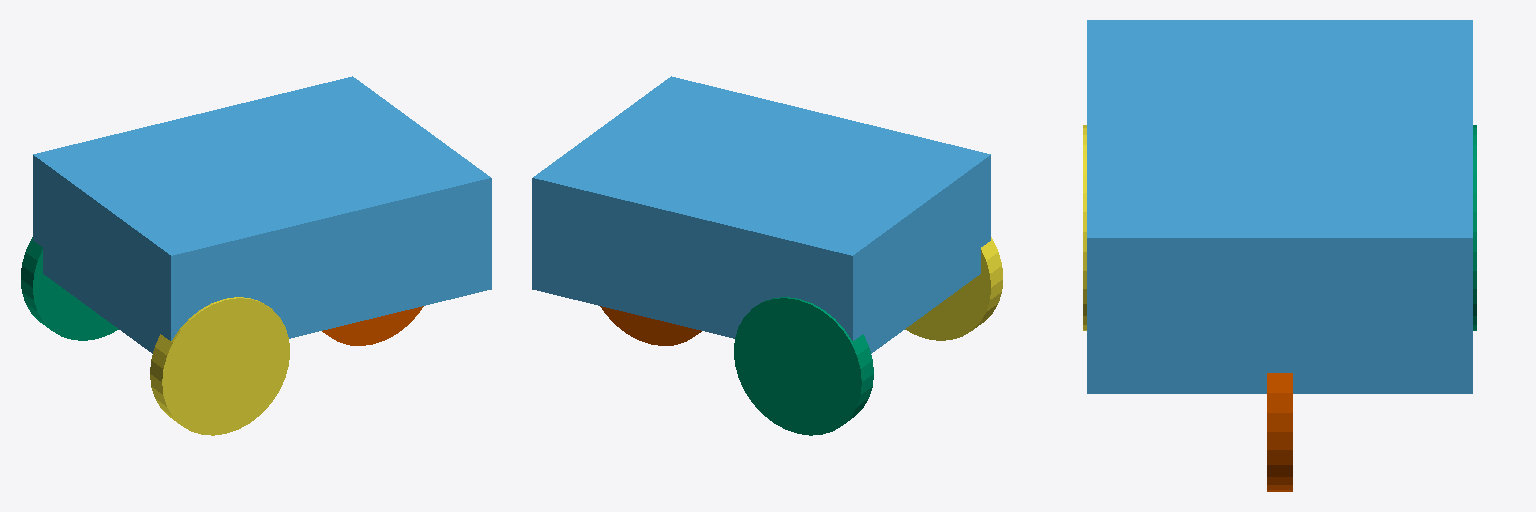
The robot description file, URDF, robot "fx_robot":
<?xml version="1.0"?>
<!--
  Base sim variant. Drops tow_link and imu_mount, adds lidar_link under
  sensor_link and imu_link under base_link. Carries the gazebo plugin block
  whose <ros> element is a real remap source.
-->
<robot name="fx_robot">

  <link name="base_footprint"/>

  <joint name="base_joint" type="fixed">
    <parent link="base_footprint"/>
    <child link="base_link"/>
    <origin xyz="0 0 0.12" rpy="0 0 0"/>
  </joint>

  <link name="base_link">
    <visual>
      <origin xyz="0.25 0 0.1" rpy="0 0 0"/>
      <geometry><box size="0.6 0.45 0.2"/></geometry>
    </visual>
    <inertial>
      <mass value="35.0"/>
      <origin xyz="0.25 0 0.1" rpy="0 0 0"/>
      <inertia ixx="0.8" ixy="0" ixz="0" iyy="1.2" iyz="0" izz="1.5"/>
    </inertial>
  </link>

  <joint name="drive_left_joint" type="continuous">
    <parent link="base_link"/>
    <child link="drive_left_wheel"/>
    <origin xyz="0.05 0.21 -0.02" rpy="0 0 0"/>
    <axis xyz="0 1 0"/>
    <limit effort="60" velocity="2.5"/>
  </joint>

  <link name="drive_left_wheel">
    <visual>
      <origin xyz="0 0 0" rpy="1.5708 0 0"/>
      <geometry><cylinder radius="0.12" length="0.04"/></geometry>
    </visual>
  </link>

  <joint name="drive_right_joint" type="continuous">
    <parent link="base_link"/>
    <child link="drive_right_wheel"/>
    <origin xyz="0.05 -0.21 -0.02" rpy="0 0 0"/>
    <axis xyz="0 1 0"/>
    <limit effort="60" velocity="2.5"/>
  </joint>

  <link name="drive_right_wheel">
    <visual>
      <origin xyz="0 0 0" rpy="1.5708 0 0"/>
      <geometry><cylinder radius="0.12" length="0.04"/></geometry>
    </visual>
  </link>

  <joint name="caster_swivel_joint" type="revolute">
    <parent link="base_link"/>
    <child link="caster_swivel_link"/>
    <origin xyz="0.45 0 0" rpy="0 0 0"/>
    <axis xyz="0 0 1"/>
    <limit lower="-0.785" upper="0.785" effort="60" velocity="2.5"/>
  </joint>

  <link name="caster_swivel_link"/>

  <joint name="caster_wheel_joint" type="continuous">
    <parent link="caster_swivel_link"/>
    <child link="caster_wheel"/>
    <origin xyz="0 0 -0.04" rpy="0 0 0"/>
    <axis xyz="0 1 0"/>
    <limit effort="60" velocity="2.5"/>
  </joint>

  <link name="caster_wheel">
    <visual>
      <origin xyz="0 0 0" rpy="1.5708 0 0"/>
      <geometry><cylinder radius="0.12" length="0.03"/></geometry>
    </visual>
  </link>

  <joint name="steer_indicator_joint" type="revolute">
    <parent link="caster_swivel_link"/>
    <child link="steer_indicator"/>
    <origin xyz="0 0 0.1" rpy="0 0 0"/>
    <axis xyz="0 0 1"/>
    <limit lower="-0.785" upper="0.785" effort="1" velocity="1"/>
    <mimic joint="caster_swivel_joint" multiplier="1.0" offset="0.0"/>
  </joint>

  <link name="steer_indicator"/>

  <joint name="sensor_joint" type="fixed">
    <parent link="base_link"/>
    <child link="sensor_link"/>
    <origin xyz="0.42 0 0.27" rpy="0 0 0"/>
  </joint>

  <link name="sensor_link"/>

  <joint name="lidar_joint" type="fixed">
    <parent link="sensor_link"/>
    <child link="lidar_link"/>
    <origin xyz="0 0 0" rpy="0 0 0"/>
  </joint>

  <link name="lidar_link"/>

  <joint name="imu_joint" type="fixed">
    <parent link="base_link"/>
    <child link="imu_link"/>
    <origin xyz="0.15 0 0.14" rpy="0 0 0"/>
  </joint>

  <link name="imu_link"/>

  <!-- Only this variant carries a gnss mount frame. -->
  <joint name="gps_mount_joint" type="fixed">
    <parent link="base_link"/>
    <child link="gps_mount"/>
    <origin xyz="0.3 0 0.35" rpy="0 0 0"/>
  </joint>

  <link name="gps_mount"/>

  <gazebo>
    <plugin name="fx_tricycle_drive" filename="libfx_tricycle_drive.so">
      <ros>
        <namespace>/fx</namespace>
        <remapping>cmd_vel:=/fx/cmd_vel_sim</remapping>
        <remapping>odom:=/fx/odom_sim</remapping>
      </ros>
      <update_rate>50</update_rate>
      <steering_joint>caster_swivel_joint</steering_joint>
      <actuated_wheel_joint>caster_wheel_joint</actuated_wheel_joint>
      <wheel_separation>0.42</wheel_separation>
    </plugin>
  </gazebo>

  <gazebo reference="sensor_link">
    <sensor name="fx_lidar" type="ray">
      <update_rate>10</update_rate>
      <plugin name="fx_lidar_plugin" filename="libgazebo_ros_ray_sensor.so">
        <ros>
          <namespace>/fx</namespace>
          <remapping>~/out:=/fx/points</remapping>
        </ros>
        <output_type>sensor_msgs/PointCloud2</output_type>
        <frame_name>sensor_link</frame_name>
      </plugin>
    </sensor>
  </gazebo>

</robot>

--- Render facts (derived) ---
The picture shows the robot from 3 angles, left to right: view 1: azimuth 30°, elevation 25°; view 2: azimuth 150°, elevation 25°; view 3: azimuth 270°, elevation 25°; orthographic projection.
Model fx_robot with 11 links and 10 joints (2 revolute, 3 continuous, 5 fixed), rooted at base_footprint, posed all joints at 0.
Visible links, largest first — view 1: base_link, drive_right_wheel, drive_left_wheel, caster_wheel; view 2: base_link, drive_left_wheel, drive_right_wheel, caster_wheel; view 3: base_link, caster_wheel, drive_left_wheel, drive_right_wheel.
Link boxes in pixels (x1,y1,x2,y2): base_link: (33,76,491,353); drive_right_wheel: (150,297,289,435); drive_left_wheel: (21,237,118,340); caster_wheel: (322,306,423,345); base_link: (532,76,990,353); drive_left_wheel: (734,297,873,435); drive_right_wheel: (905,237,1002,340); caster_wheel: (600,306,701,345); base_link: (1087,20,1472,393); caster_wheel: (1267,373,1292,491); drive_left_wheel: (1473,125,1476,330); drive_right_wheel: (1083,125,1086,330).
Size in the robot's own frame: 0.64 by 0.46 by 0.36 metres.
Geometry: primitives only (box / cylinder / sphere), no mesh files.
